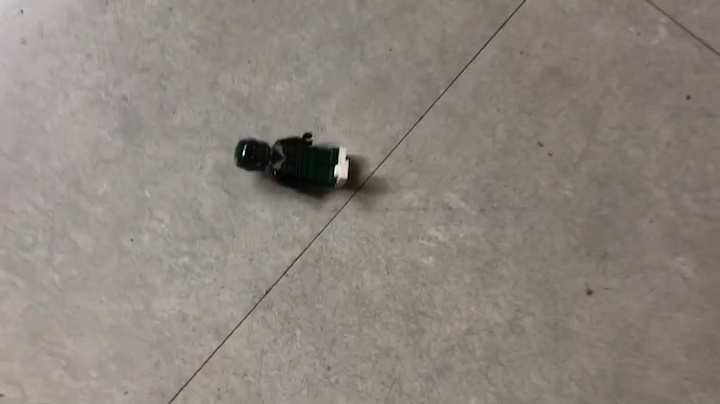people: (234, 131, 358, 200)
